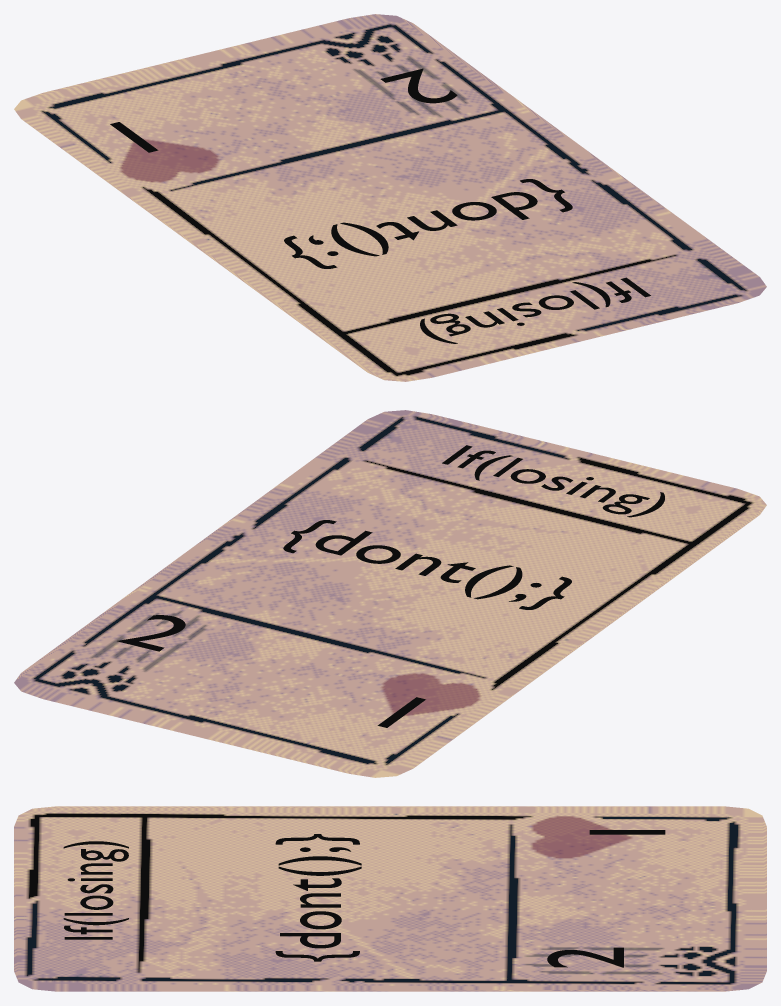
Rendered from if(losing).glb.
The picture shows the model from 3 angles, top to bottom: view 1: azimuth 30°, elevation 25°; view 2: azimuth 150°, elevation 25°; view 3: azimuth 270°, elevation 25°; orthographic projection. The views are drawn at different scales.
Visible parts, largest first — view 1: if(losing); view 2: if(losing); view 3: if(losing).
Part boxes in pixels (x1,y1,x2,y2): if(losing): [14, 14, 766, 381]; if(losing): [14, 410, 766, 777]; if(losing): [14, 806, 766, 991].
Size of what is drawn, in the model's own units: 44.93 by 0.4028 by 77.22.
3 materials, 1 textured.
